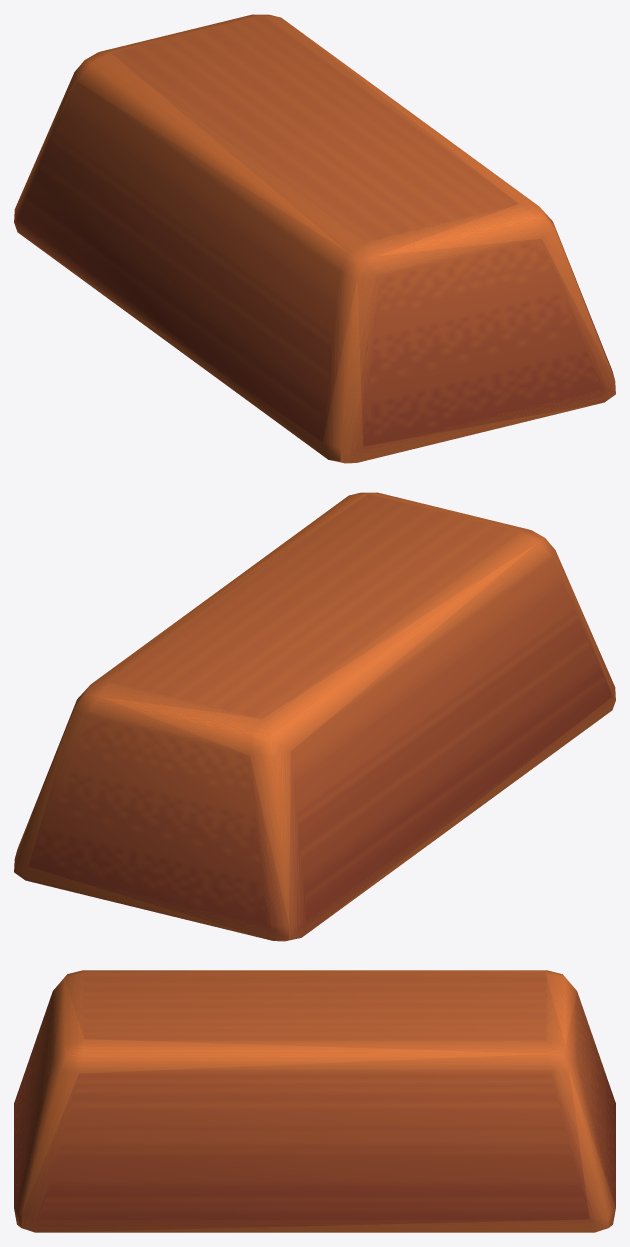
Rendered from Copper_Bar.gltf.
3 renders of one model, top to bottom at view 1: azimuth 30°, elevation 25°; view 2: azimuth 150°, elevation 25°; view 3: azimuth 270°, elevation 25°, orthographic. The views are drawn at different scales.
Visible parts, largest first — view 1: Copper_Bar; view 2: Copper_Bar; view 3: Copper_Bar.
Boxes of the visible parts, x1,y1,x2,y2 form: Copper_Bar: (14,14,615,463); Copper_Bar: (14,492,615,941); Copper_Bar: (14,970,615,1232).
Bounding box in the file's own units: 0.4 × 0.25 × 0.8.
1 material, 1 textured.
